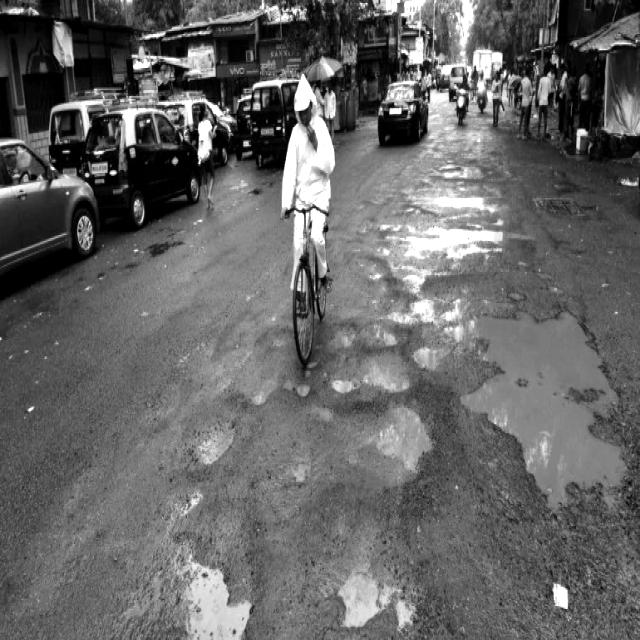pathole: (415, 161, 640, 552), (156, 401, 429, 640), (329, 284, 432, 535), (357, 198, 433, 288)
